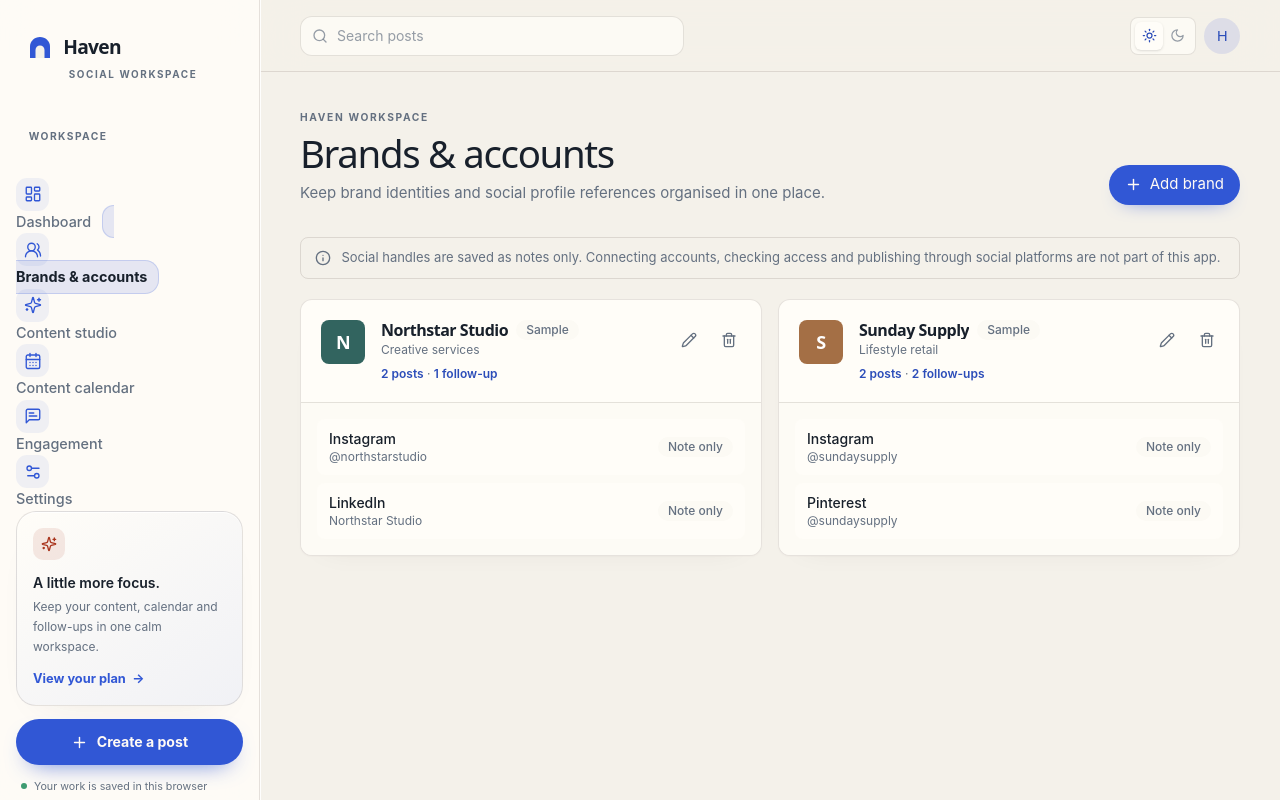
Test case: modal accessibility › closes with Escape and returns focus to the button that opened it
This screenshot has width=1280, height=800.
Click the button "Add brand".
click(1174, 185)  # box left=1109, top=165, right=1240, bottom=205
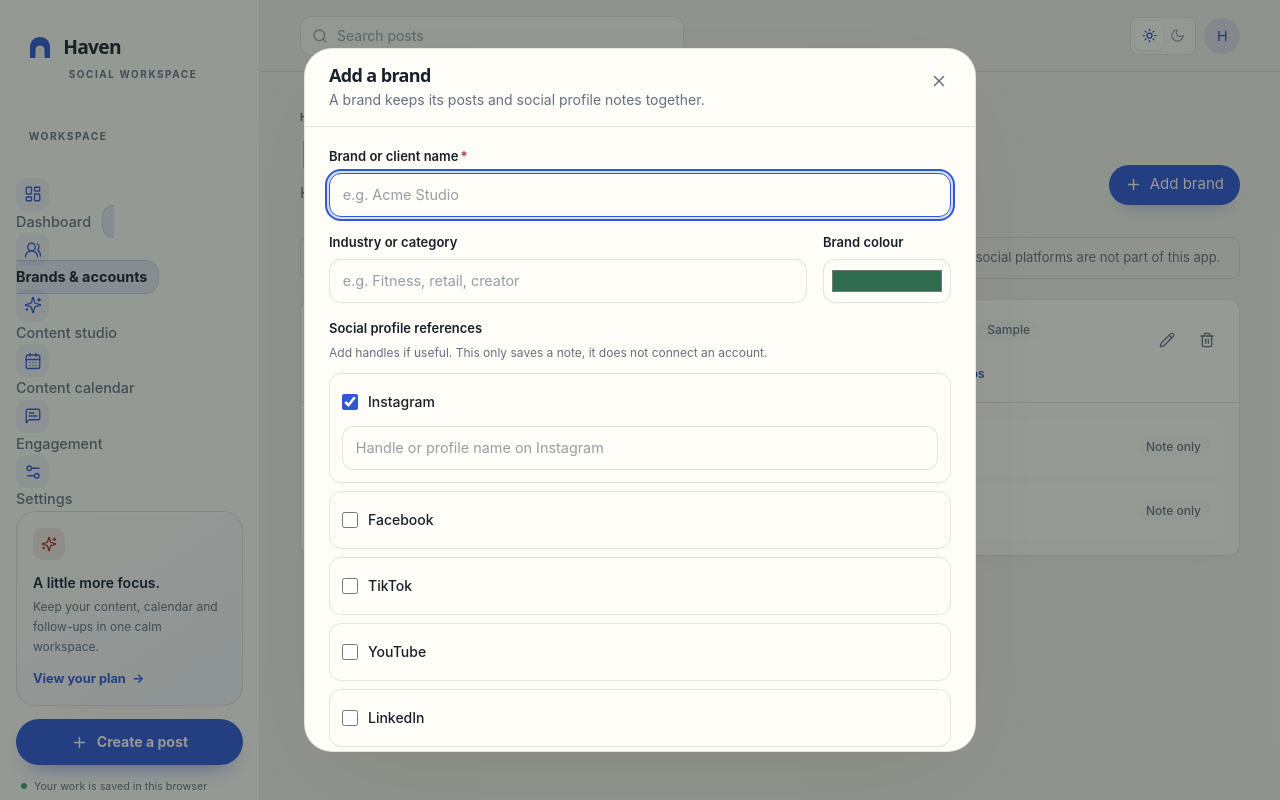
Result: the dialog is shown at left=304, top=48, right=976, bottom=752
Press Escape
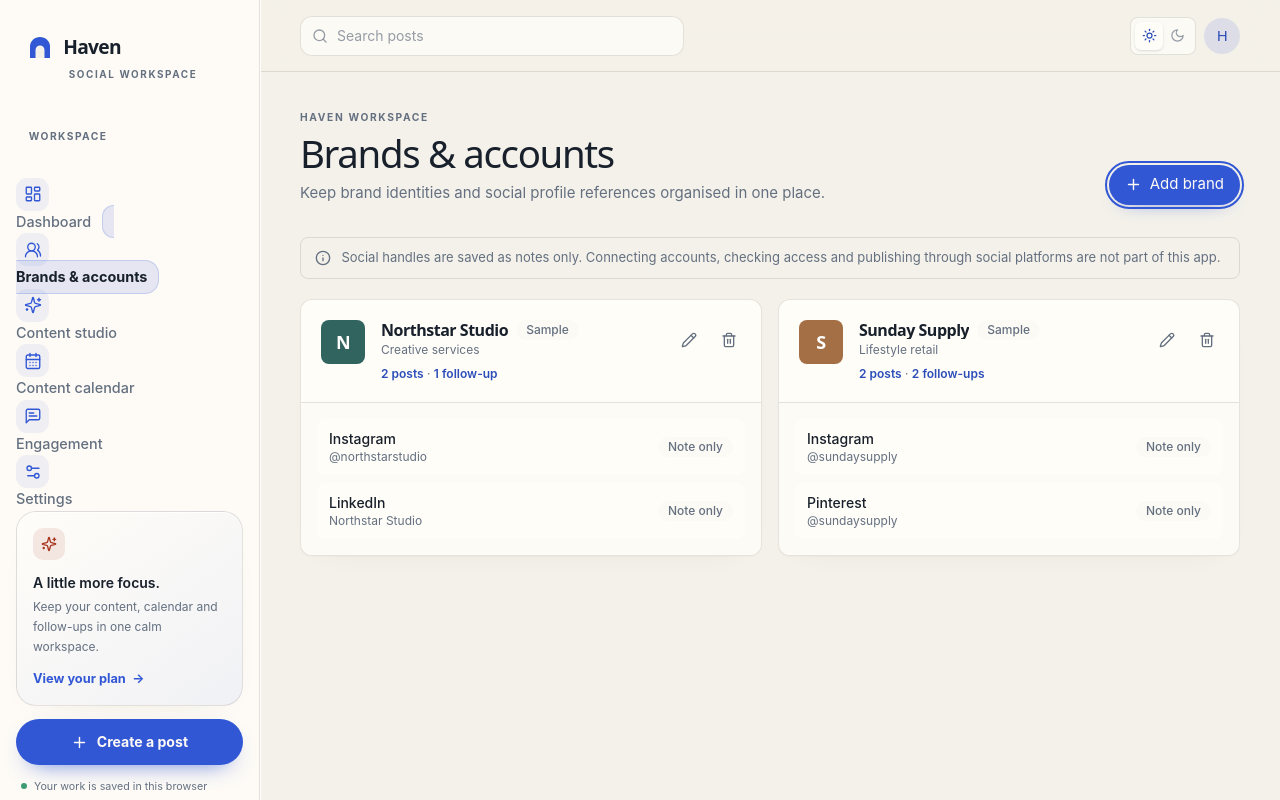
Result: the dialog is gone
